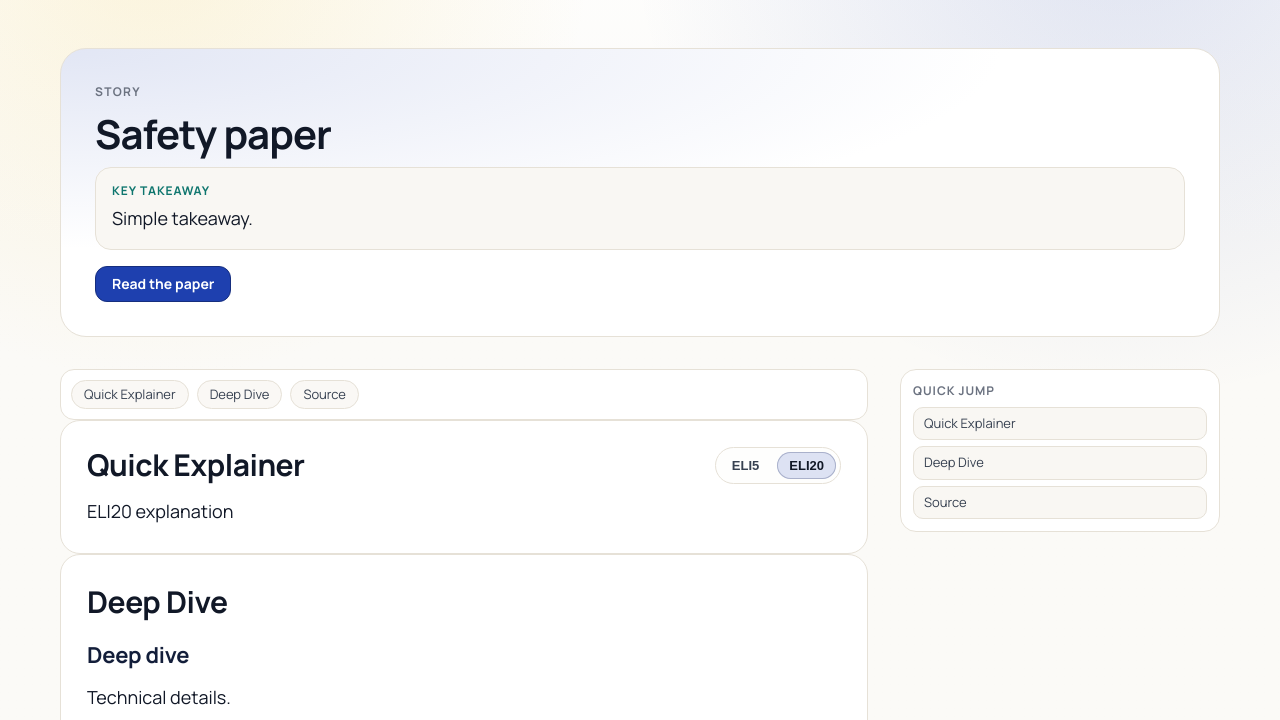
it: StoryPage intuition fallback from deep-dive payload › shows ELI20 toggle when eli20 exists inside summary_deep_dive JSON payload
Expected: the text "ELI20 explanation" is shown, [87,499,234,523]
Expected: the tab "ELI20" is shown, [777,452,836,479]
What coordinates should you click on to do the following:
click the tab "ELI5"
I would click on:
 (746, 465)
Its box is [720,452,771,479].
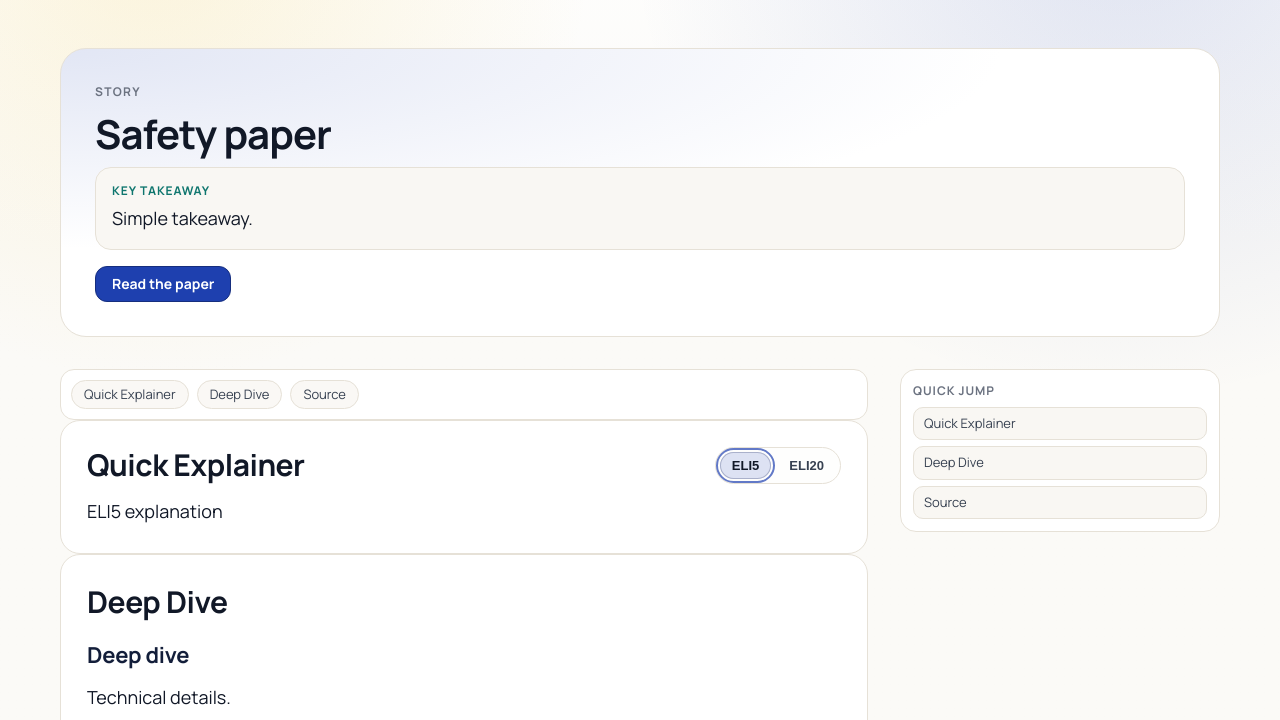
Expected: the text "ELI5 explanation" is shown, [87,499,223,523]
